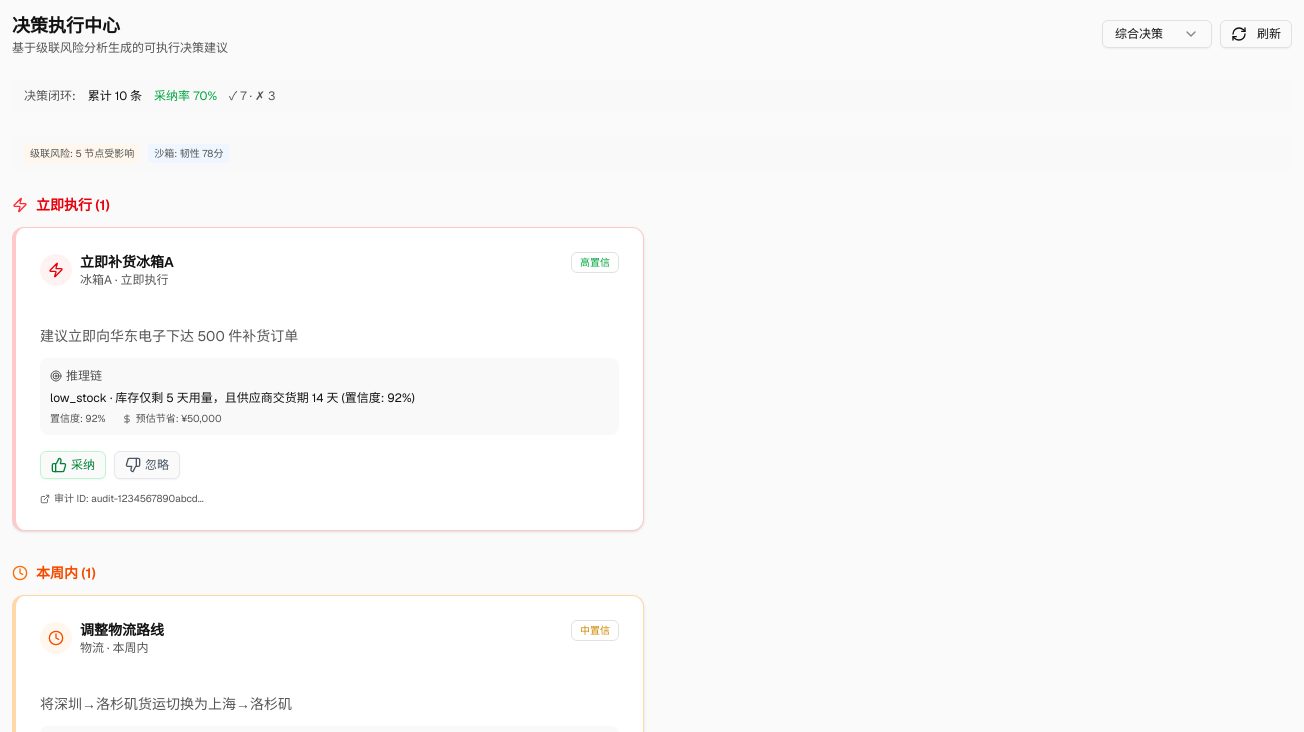
Test: DecisionCenter › shows accepted badge after clicking accept button
Expected: the text "立即补货冰箱A" is shown, [80,252,174,272]
Click the button "采纳".
click(73, 465)  # box [40,451,106,479]
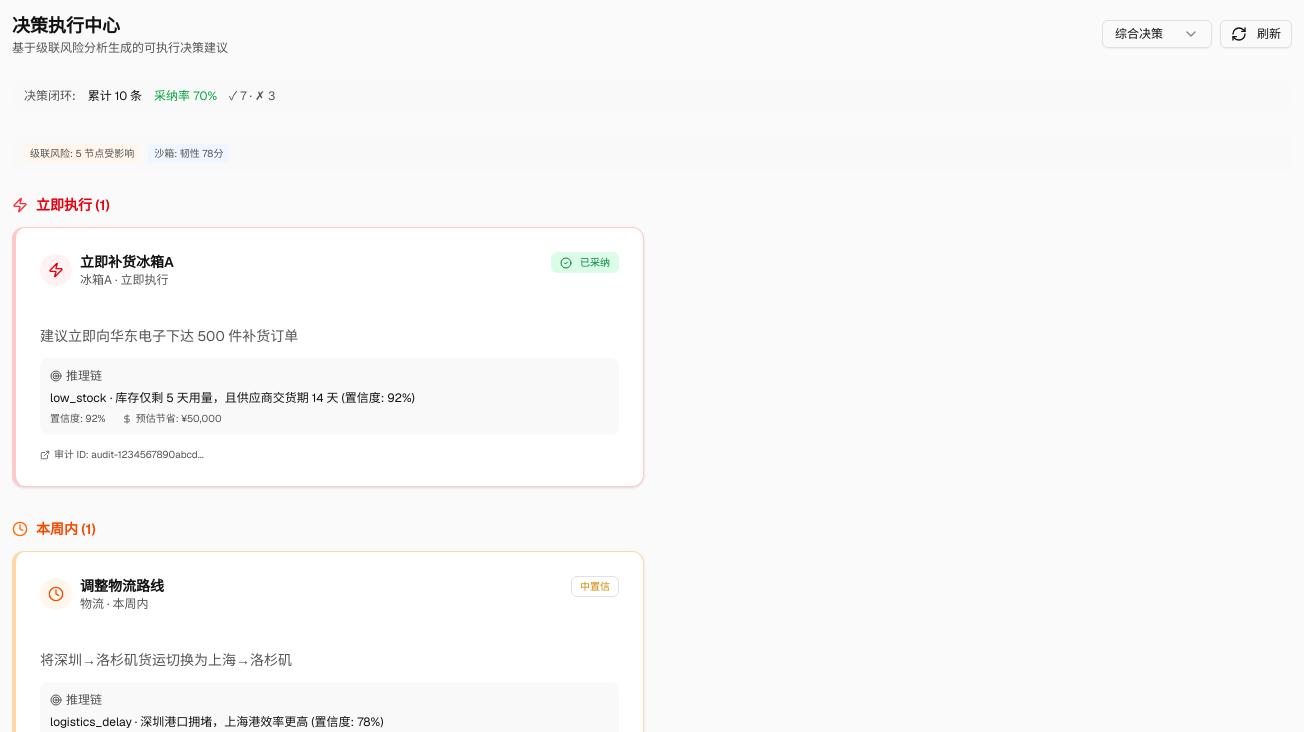
Expected: the text "已采纳" is shown, [551,252,619,273]
